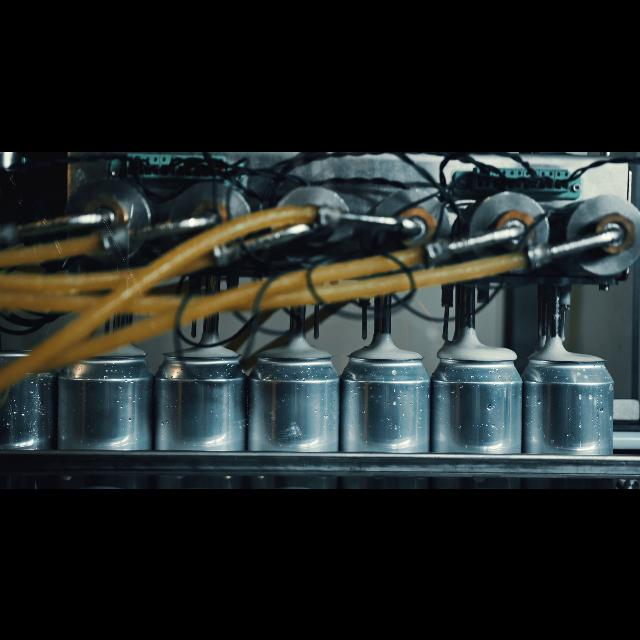empty: (65, 332, 145, 488), (1, 342, 57, 488)
full: (528, 330, 616, 488), (436, 324, 518, 488), (342, 332, 428, 488), (254, 330, 336, 488), (165, 332, 247, 488)
